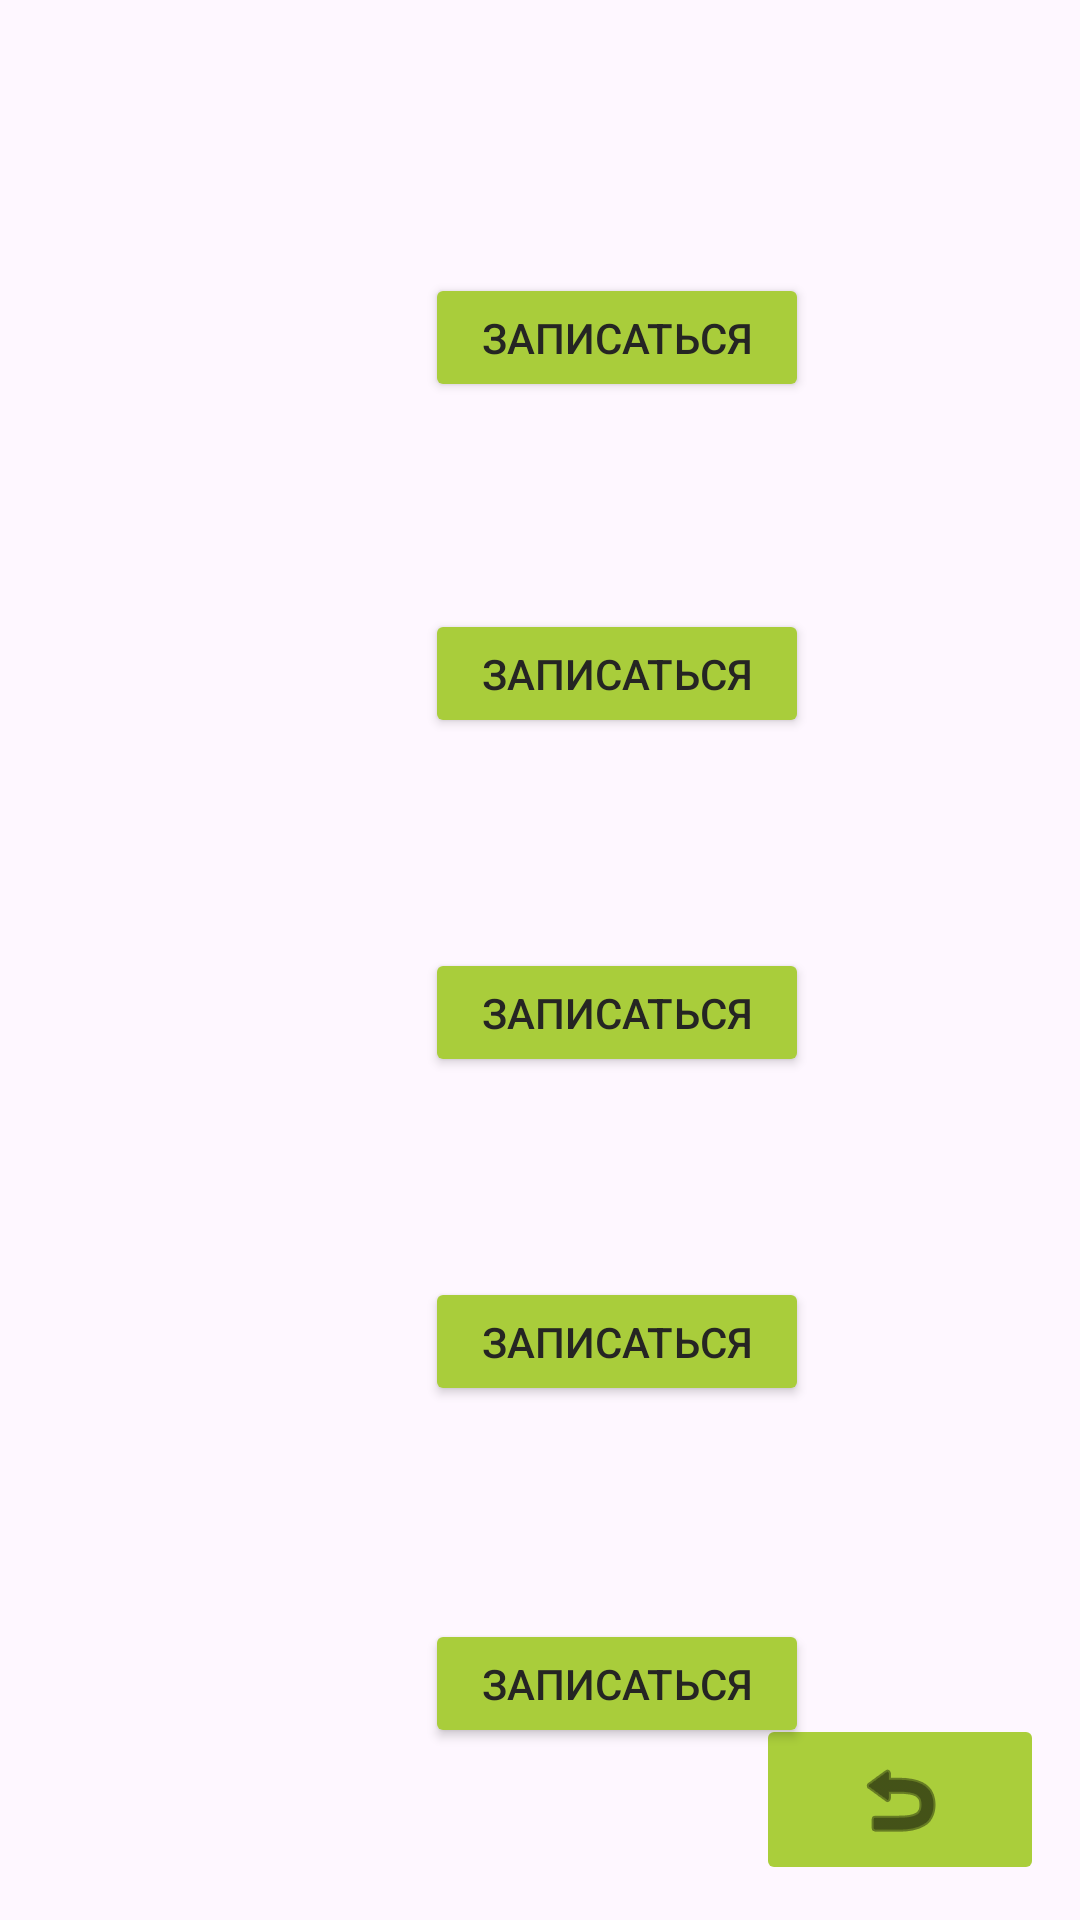

Screen size 1080×1920. Icon name, then its center in pixels as [x,y]:
revert: [894,1790]
